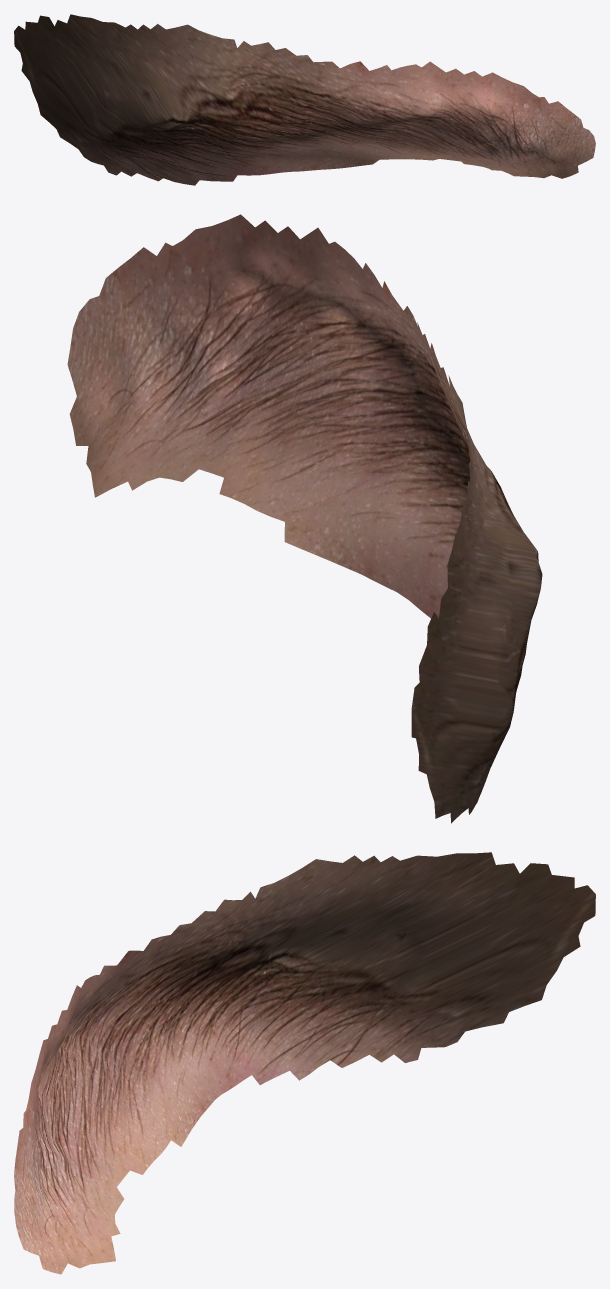
Rendered from eyebrow04right.obj.
The picture shows the model from 3 angles, top to bottom: view 1: azimuth 30°, elevation 25°; view 2: azimuth 150°, elevation 25°; view 3: azimuth 270°, elevation 25°; orthographic projection. The views are drawn at different scales.
Parts seen in each view (by area): view 1: default; view 2: default; view 3: default.
Part boxes in pixels (<box>): default: <box>14,14,595,185</box>; default: <box>67,214,542,823</box>; default: <box>14,852,595,1274</box>.
Bounding box in the file's own units: 45.52 × 19.05 × 43.44.
1 material, 1 textured.
